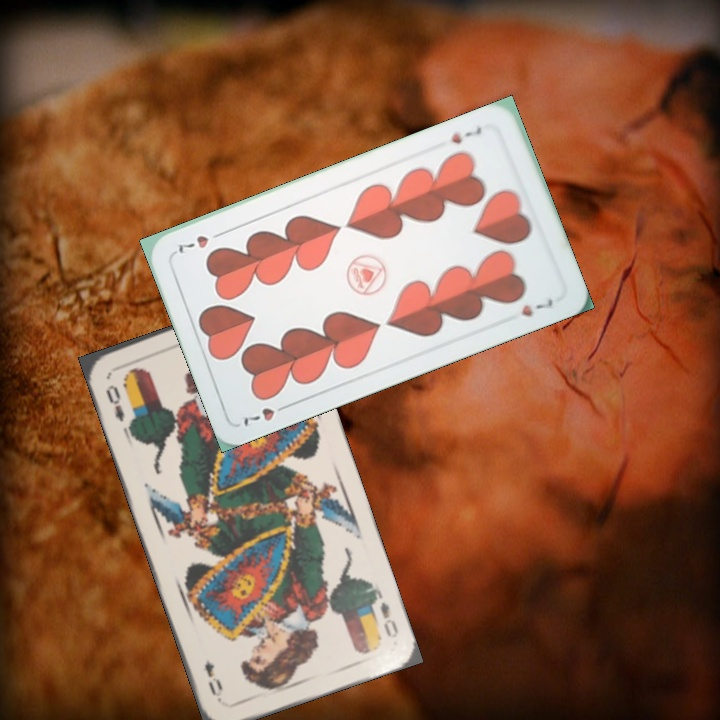EO: (366, 587, 401, 641), (102, 380, 127, 424)
H7: (239, 399, 294, 429), (447, 122, 485, 147)
